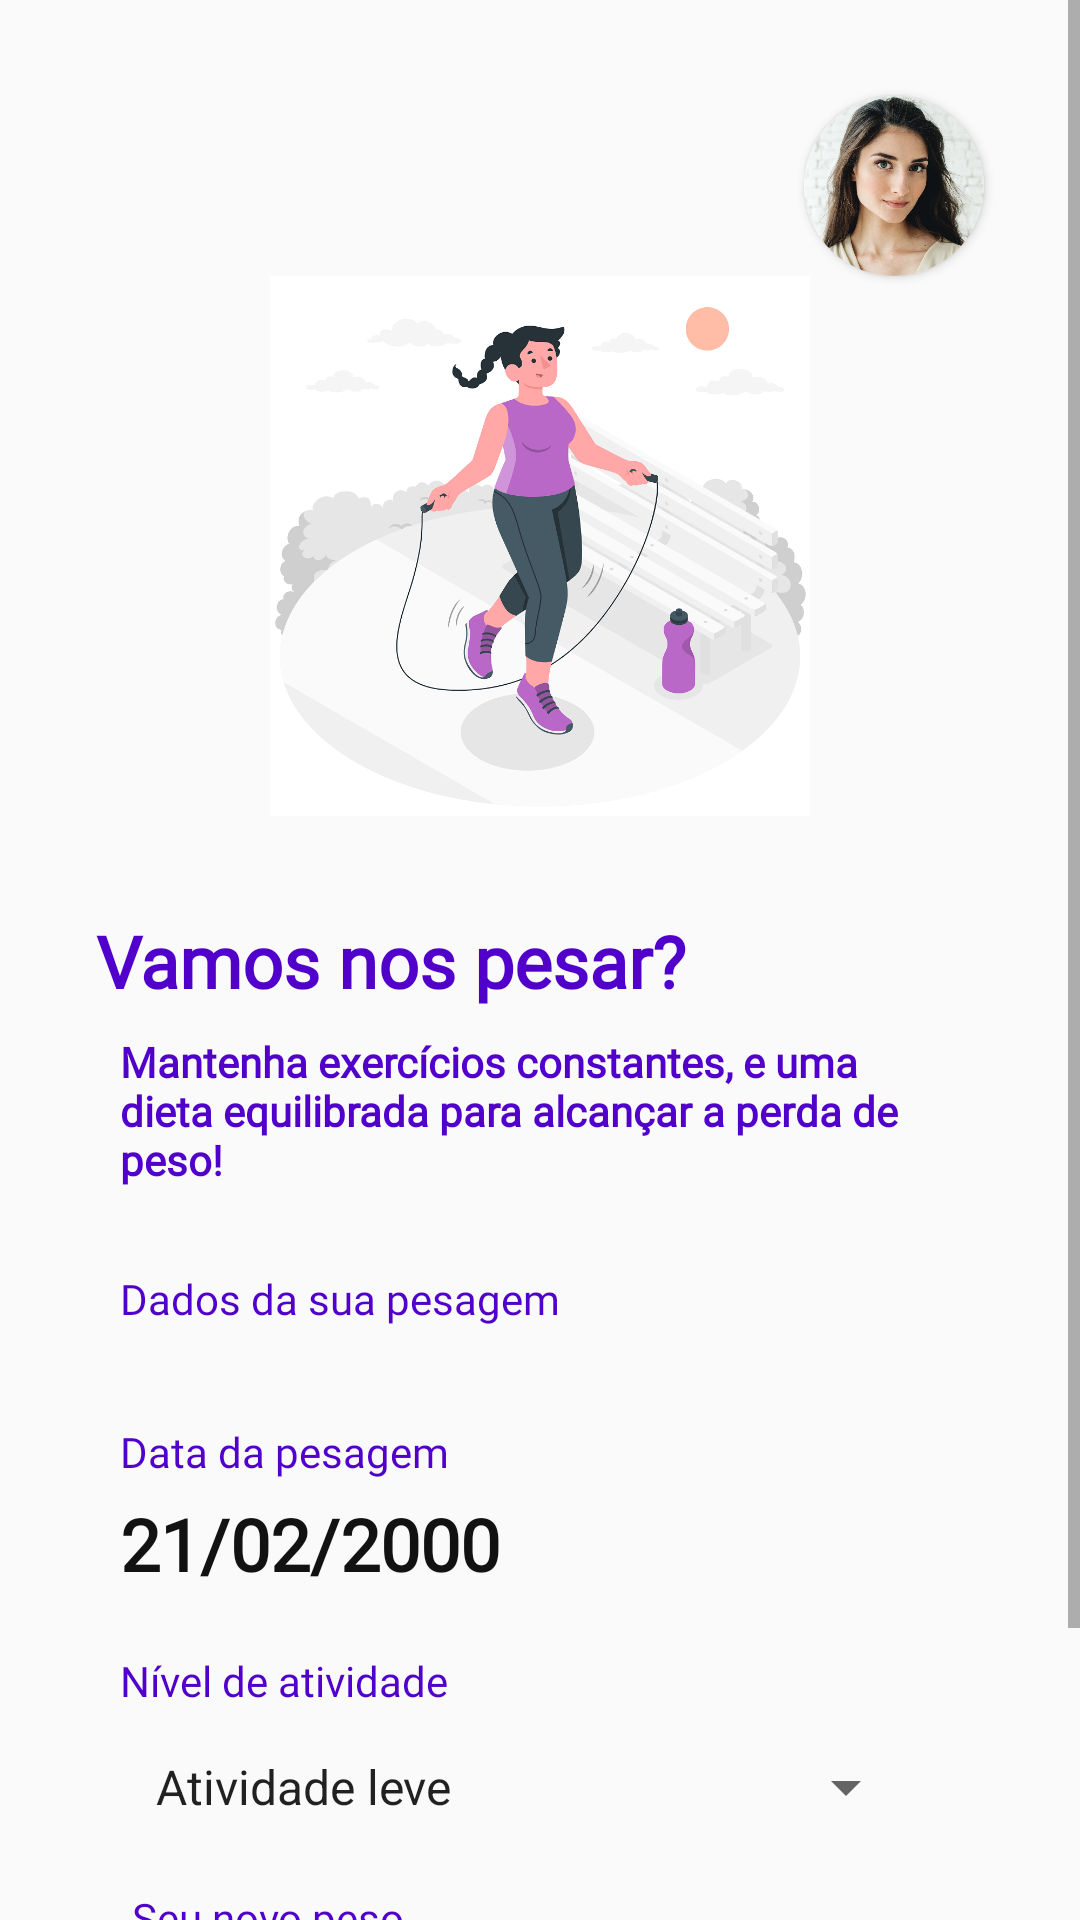

Where to tap for icons on this 1080x1920 app screen, as (x,y):
profile: (897,186)
